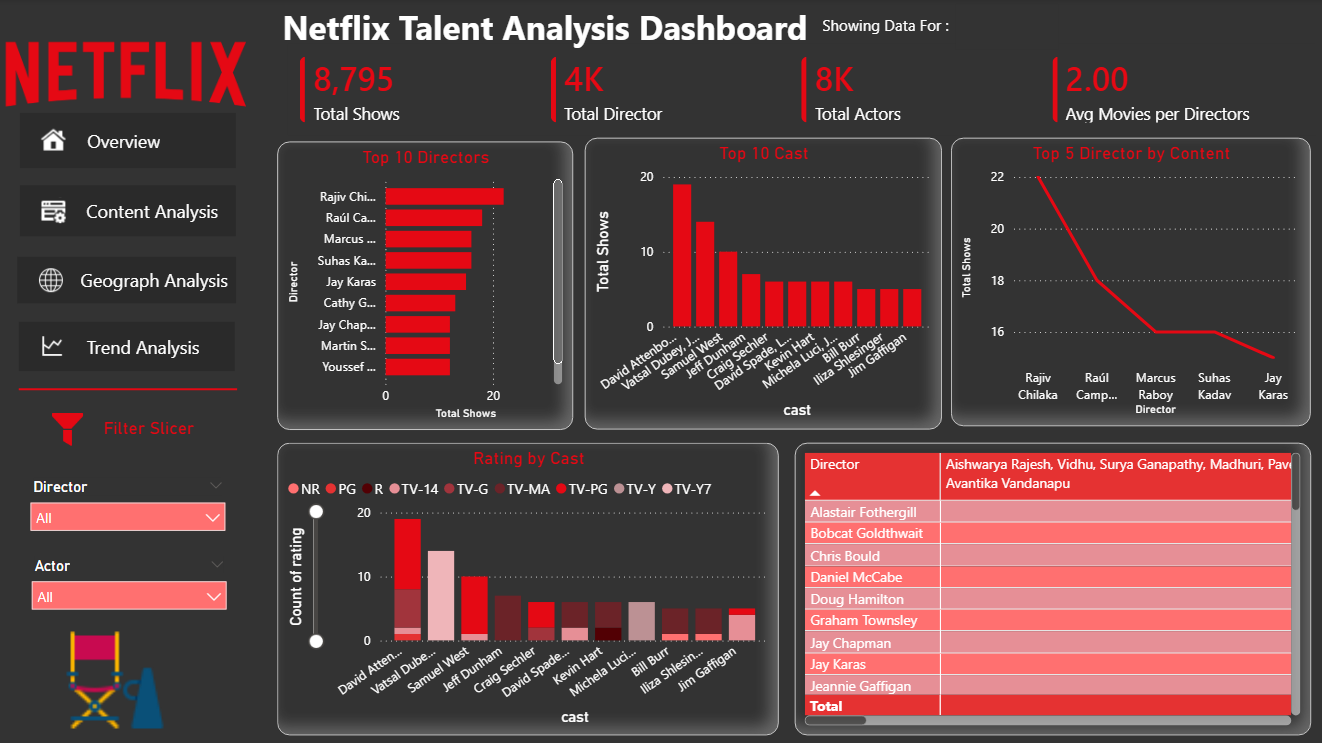

Layout of this report page (visuals, bound fields, positions):
{"tool":"powerbi","page":{"name":"Talent Analysis","canvas":[1280,720],"ordinal":4},"visuals":[{"type":"clusteredBarChart","title":"Top 10 Directors","fields":{"Category":["netflix_cleaned_ready.director"],"Y":["Measure_.Total Shows"]},"box":[271.7,137.2,285.4,278.6],"z":0},{"type":"columnChart","title":"Top 10 Cast","fields":{"Y":["Measure_.Total Shows"],"Category":["netflix_cleaned_ready.cast"]},"box":[568.1,134.5,344.4,281.3],"z":1000},{"type":"lineChart","title":"Top 5 Director by Content","fields":{"Category":["netflix_cleaned_ready.director"],"Y":["Measure_.Total Shows"]},"box":[922.1,134.5,347.2,278.6],"z":2000},{"type":"pivotTable","title":"Top 10 Genres","fields":{"Rows":["netflix_cleaned_ready.director"],"Columns":["netflix_cleaned_ready.cast"],"Values":["CountNonNull(netflix_cleaned_ready.cast)"]},"box":[771.2,428.1,498.1,282.7],"z":3000},{"type":"lineStackedColumnComboChart","title":"Rating by Cast","fields":{"Category":["netflix_cleaned_ready.cast"],"Y":["CountNonNull(netflix_cleaned_ready.rating)"],"Series":["netflix_cleaned_ready.rating"]},"box":[271.7,428.1,484.4,282.7],"z":4000},{"type":"cardVisual","fields":{"Data":["Measure_.Total Shows","Measure_.Total Director","Measure_.Total Actors","Measure_.Avg Movies per Directors"]},"box":[275.8,38.4,1004.5,98.8],"z":5000},{"type":"textbox","box":[271.7,0,521.4,54.9],"z":6000},{"type":"textbox","box":[793.1,9.6,148.2,34.3],"z":7000},{"type":"image","box":[4.1,0,245.6,149.6],"z":8000},{"type":"actionButton","box":[23.3,109.8,208.6,53.5],"z":9000},{"type":"actionButton","box":[23.3,179.8,208.6,49.4],"z":10000},{"type":"actionButton","box":[20.6,248.4,211.3,45.3],"z":11000},{"type":"actionButton","box":[22,311.5,208.6,48],"z":12000},{"type":"shape","box":[22,359.5,211.3,34.3],"z":13000},{"type":"textbox","box":[98.8,399.3,123.5,32.9],"z":14000},{"type":"image","box":[39.8,397.9,59,34.3],"z":15000},{"type":"slicer","fields":{"Values":["netflix_cleaned_ready.director"]},"box":[23.3,456.9,208.6,76.8],"z":16000},{"type":"slicer","fields":{"Values":["netflix_cleaned_ready.cast"]},"box":[24.7,533.8,208.6,76.8],"z":17000},{"type":"cardVisual","fields":{"Data":["Min(netflix_cleaned_ready.rating)"]},"box":[922.1,0,109.8,54.9],"z":18000},{"type":"image","box":[1.4,595.1,227.8,124.9],"z":19000}]}

Visuals, with their boxes on the page's 1280x720 design canvas (x1, y1, x2, y2). These are canvas units, not pixel positions in the 1322x743 screenshot, which may show the page scaled, cropped or inside an application window:
"Top 10 Directors" clusteredBarChart: (272,137,557,416)
"Top 10 Cast" columnChart: (568,134,912,416)
"Top 5 Director by Content" lineChart: (922,134,1269,413)
"Top 10 Genres" pivotTable: (771,428,1269,711)
"Rating by Cast" lineStackedColumnComboChart: (272,428,756,711)
cardVisual - Measure_.Total Shows x Measure_.Total Director: (276,38,1280,137)
textbox: (272,0,793,55)
textbox: (793,10,941,44)
image: (4,0,250,150)
actionButton: (23,110,232,163)
actionButton: (23,180,232,229)
actionButton: (21,248,232,294)
actionButton: (22,312,231,360)
shape: (22,360,233,394)
textbox: (99,399,222,432)
image: (40,398,99,432)
slicer - netflix_cleaned_ready.director: (23,457,232,534)
slicer - netflix_cleaned_ready.cast: (25,534,233,611)
cardVisual - Min(netflix_cleaned_ready.rating): (922,0,1032,55)
image: (1,595,229,720)
